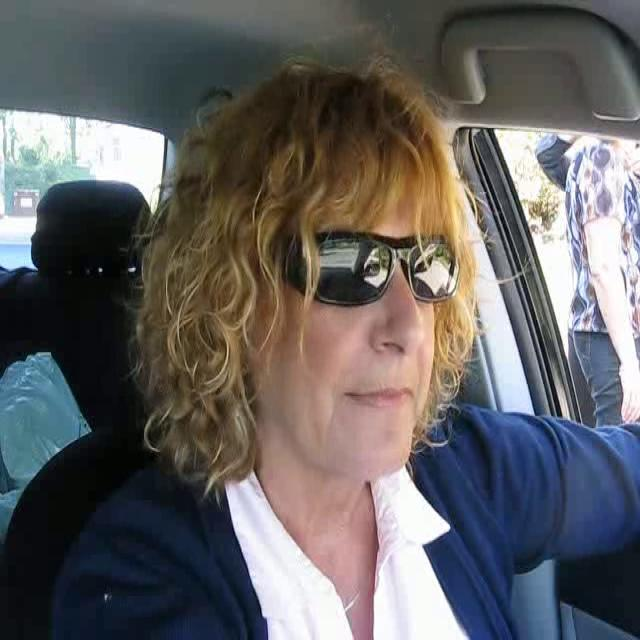close: (343, 376, 416, 414)
